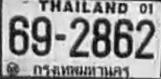2: (68, 16, 88, 56), (134, 18, 154, 58)
6: (8, 14, 28, 55), (113, 18, 132, 57)
8: (91, 17, 110, 57)
9: (31, 15, 50, 55)
BKK: (30, 62, 132, 79)
